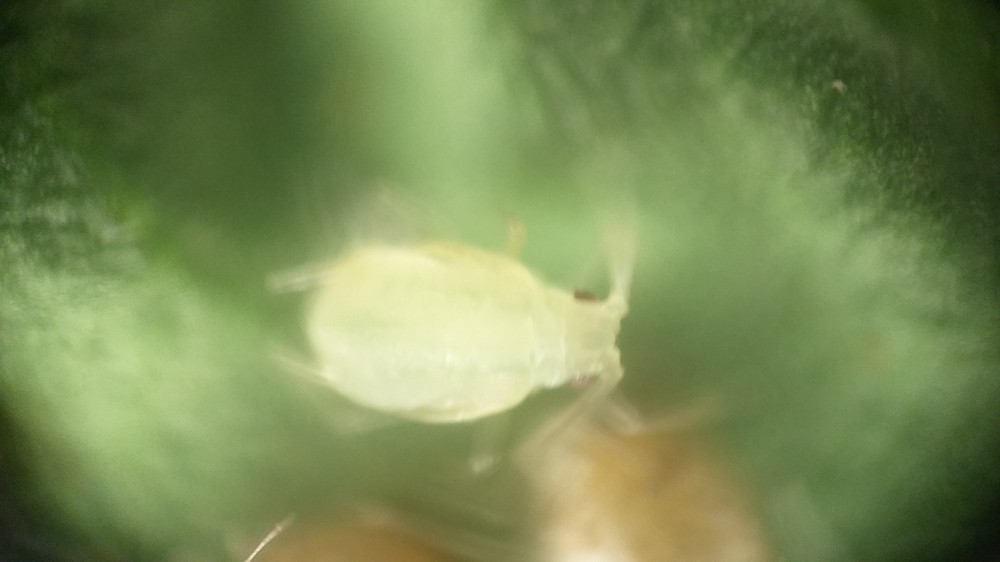Pulgon: (231, 182, 736, 478)
